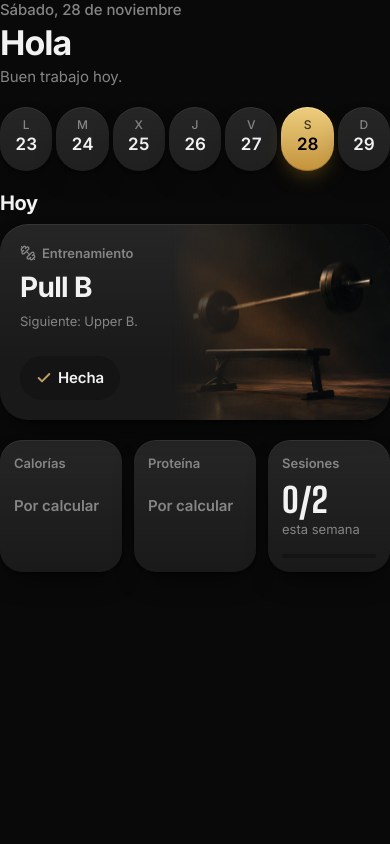
dashboard home overview › marks today as done and opens what was logged before progress
The image size is (390, 844).
Later steps or results of the test are not shown.
Expected: the text "Hecha" is shown, [20,356,120,400]
Expected: the text "Buen trabajo hoy." is shown, [0,67,122,86]
Click the button with aria-label "Ver la sesión Pull B, hecha": (195, 322) [0,224,389,420]
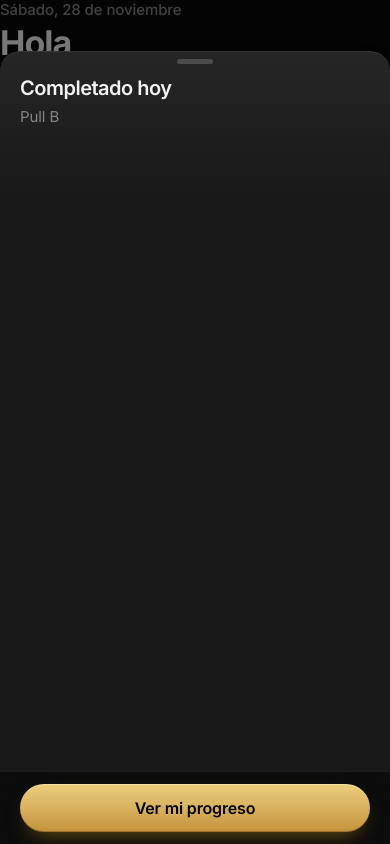
Expected: the heading "Completado hoy" is shown, [20,76,172,100]
